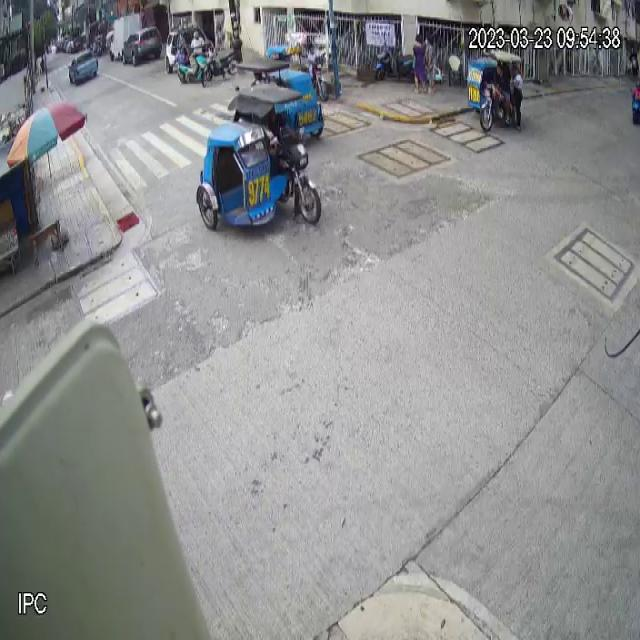Tricycle: (196, 81, 322, 232), (468, 52, 524, 131)
